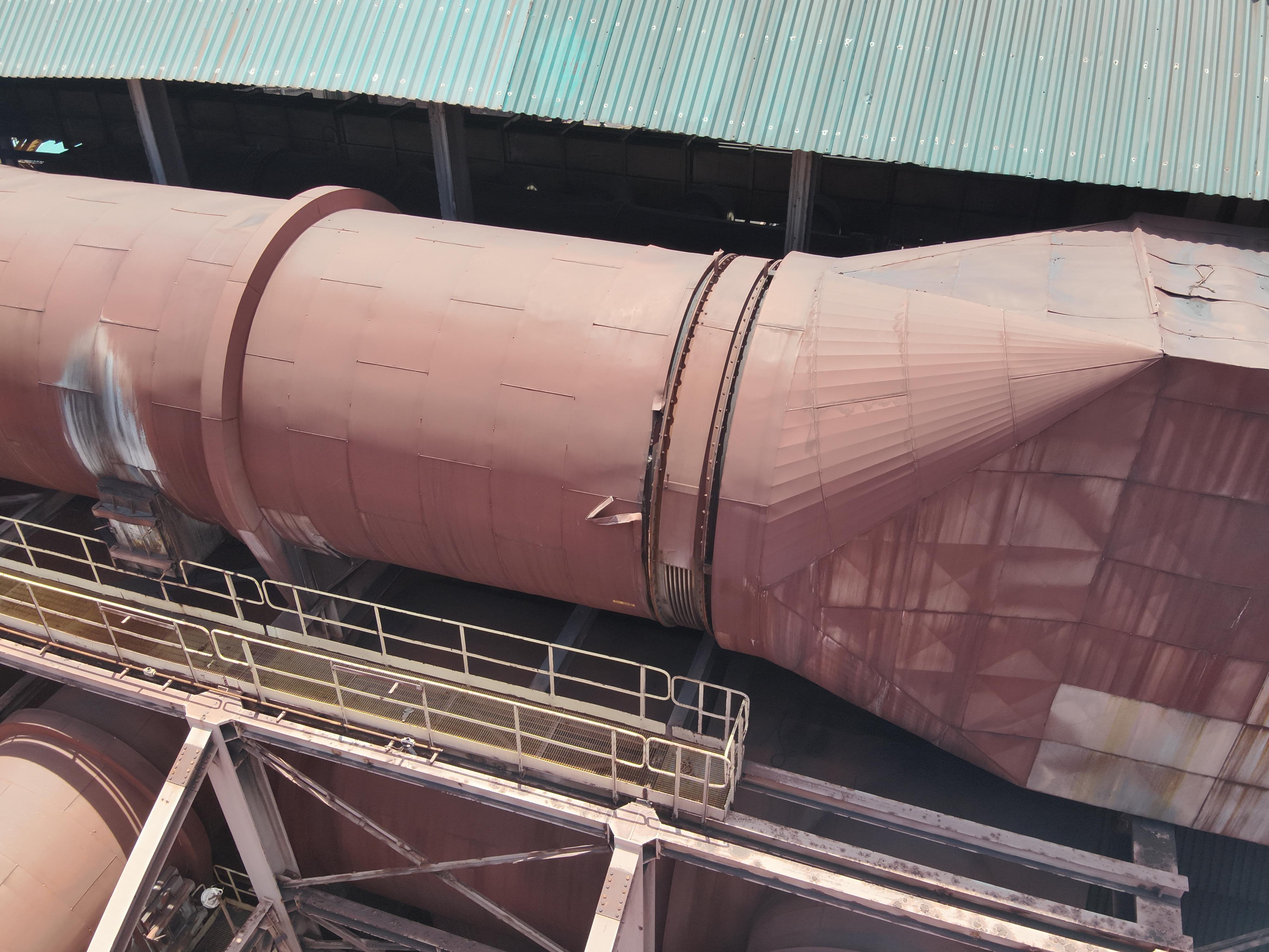Failures: (582, 346, 741, 601), (1106, 214, 1239, 370)
